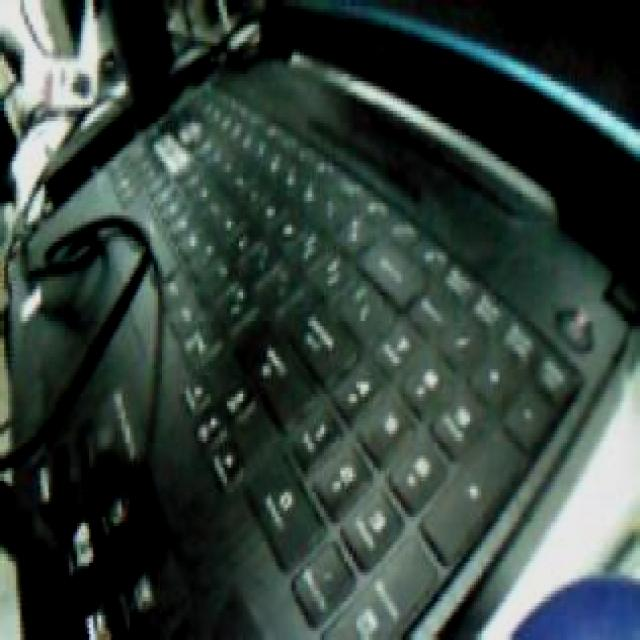BallPurple: (503, 565, 639, 640)
